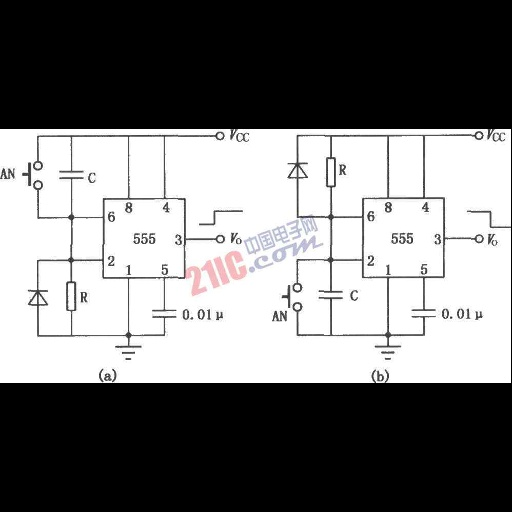capacitor: (55, 167, 85, 190), (406, 303, 438, 324), (149, 305, 180, 324), (314, 286, 344, 303)
firstresistance: (322, 153, 338, 191), (64, 278, 78, 314)
gnd: (111, 344, 147, 364), (369, 344, 408, 362)
seconddiode: (23, 287, 51, 309), (283, 160, 312, 181)
